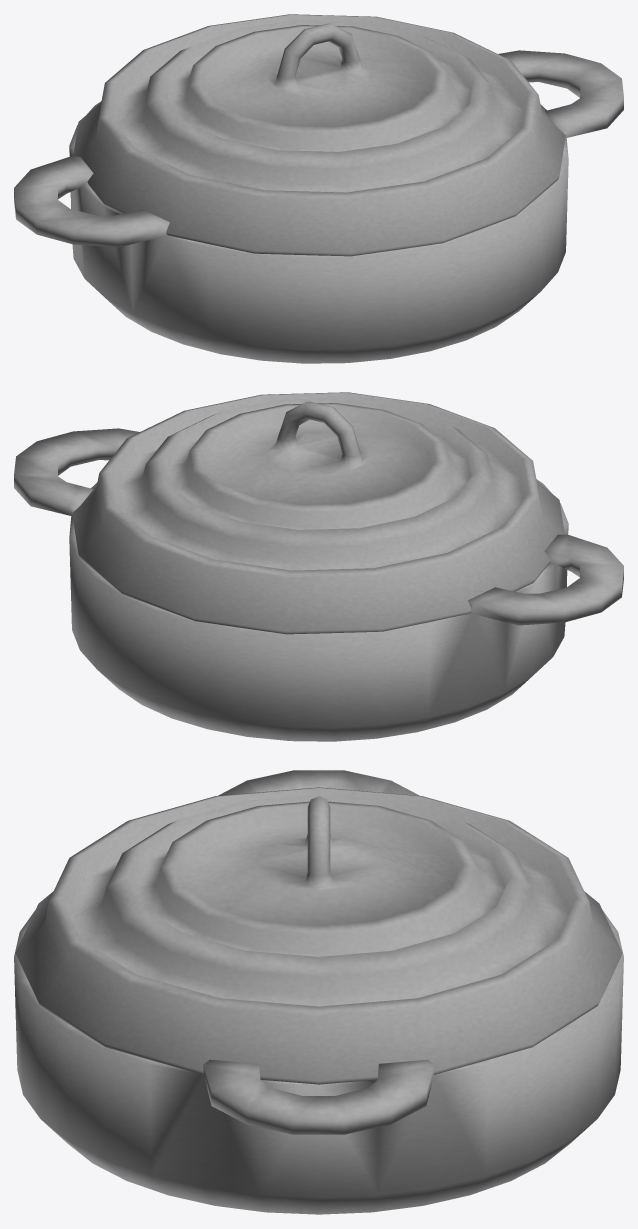
File: cookingpot_001.glb
3 views of the same model, one above another, from view 1: azimuth 30°, elevation 25°; view 2: azimuth 150°, elevation 25°; view 3: azimuth 270°, elevation 25° (orthographic). The views are drawn at different scales.
Visible parts, largest first — view 1: cookingpot.004, cookingpot.001; view 2: cookingpot.004, cookingpot.001; view 3: cookingpot.004, cookingpot.001.
Boxes of the visible parts, x1,y1,x2,y2 form: cookingpot.004: (73,14,565,256); cookingpot.001: (14,50,623,363); cookingpot.004: (72,392,564,634); cookingpot.001: (14,428,623,741); cookingpot.004: (15,787,622,1084); cookingpot.001: (14,770,623,1214).
Size of the model in its own units: 1.16 by 0.4612 by 0.8571.
1 material, 1 textured.
